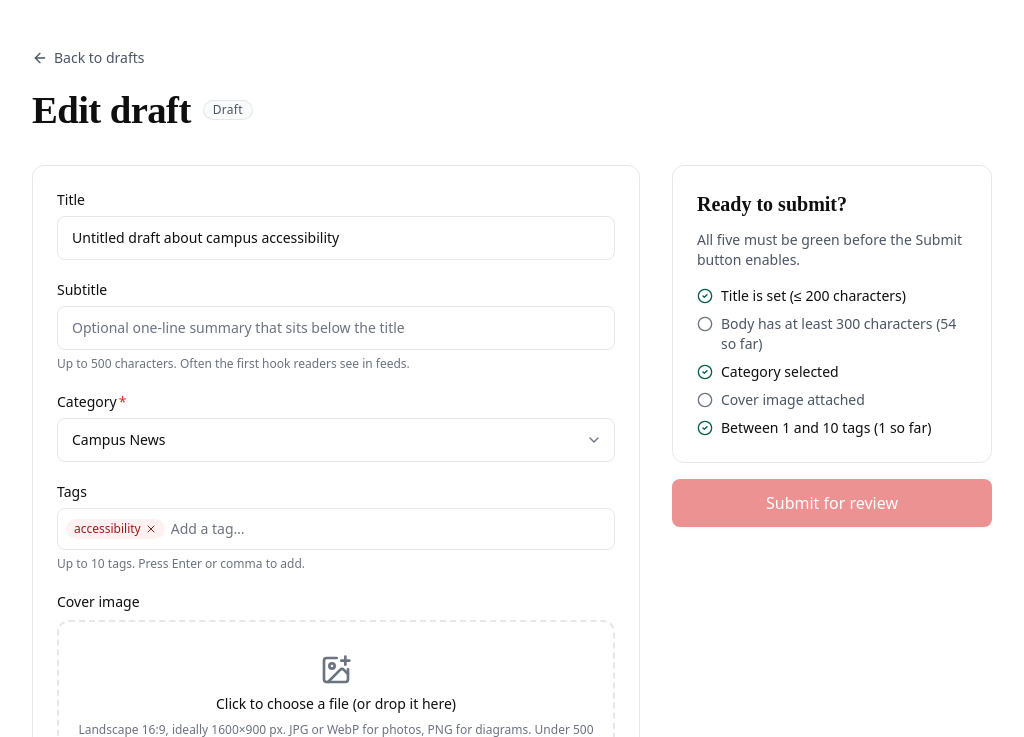
Test case: <EditDraftPage> › surfaces a conflict banner when the server returns VERSION_CONFLICT
Type "!" into the field showing "untitled draft about campus accessibility".
click(336, 238); type("!")  # box [72,228,600,248]
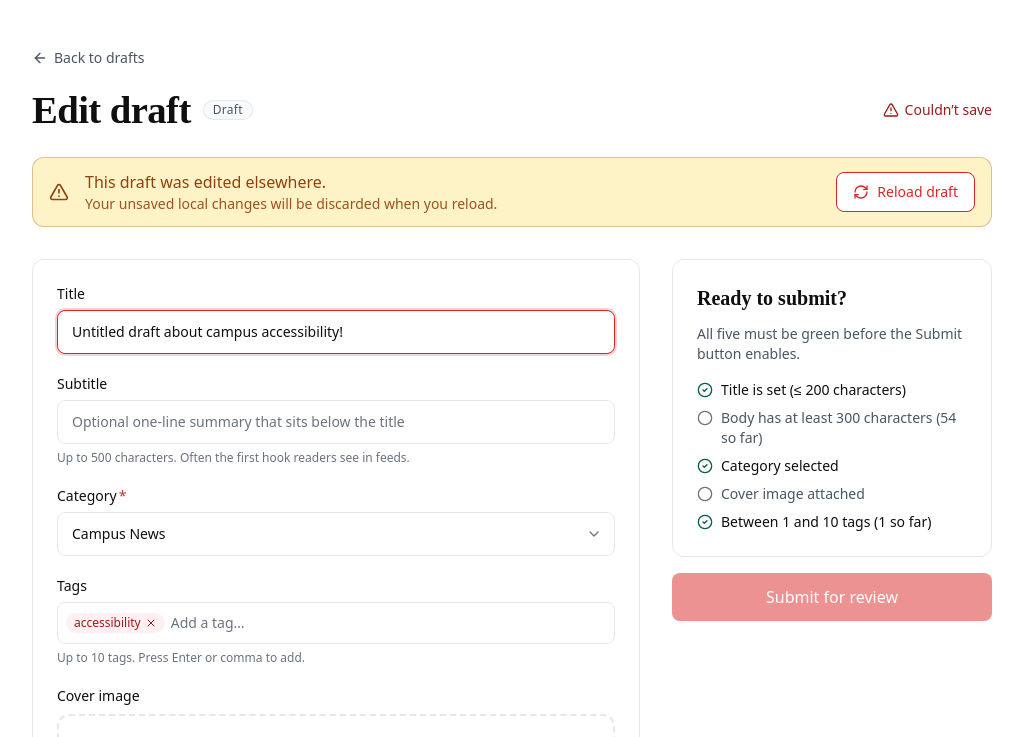
Expected: the text "This draft was edited elsewhere." is shown, [85,170,326,192]
Expected: the button "Reload draft" is shown, [836,172,975,212]
